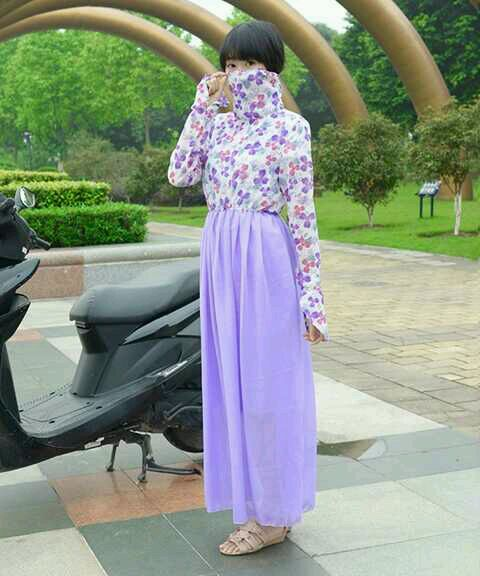face_mask: (224, 52, 264, 102)
